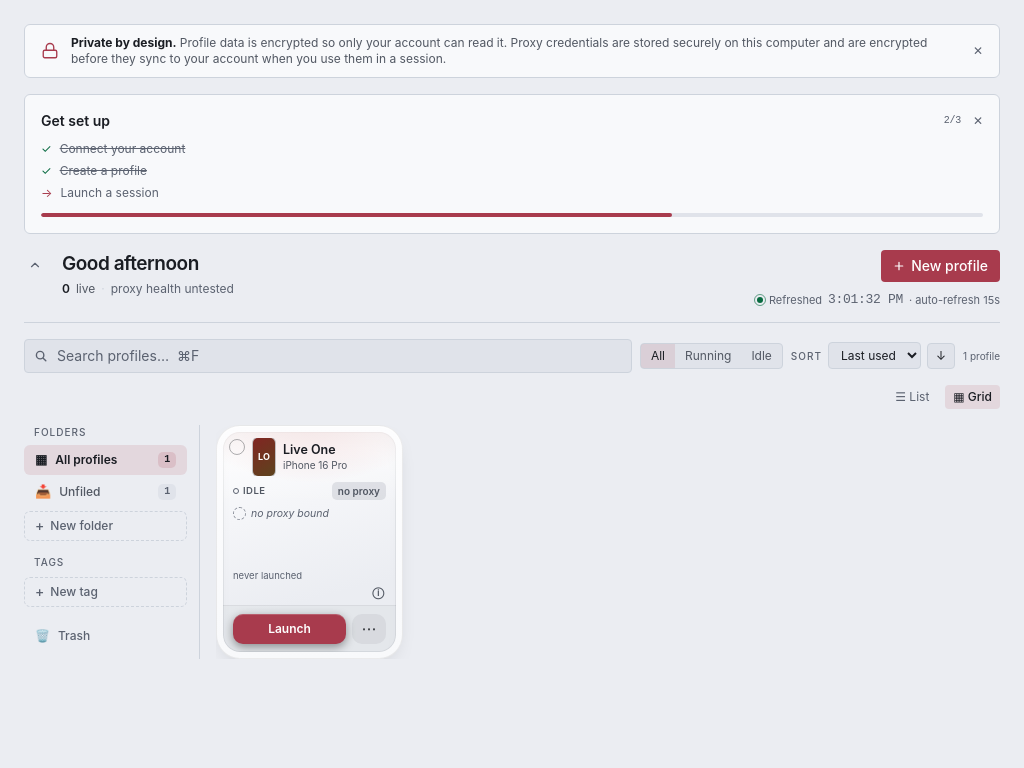
Test: TrashPanel load truth › renders a retryable failure rather than false empty on a load error
Expected: the text "Live One" is shown, left=283, top=442, right=336, bottom=456
Click the button "🗑️ Trash": (106, 636) left=24, top=620, right=187, bottom=650
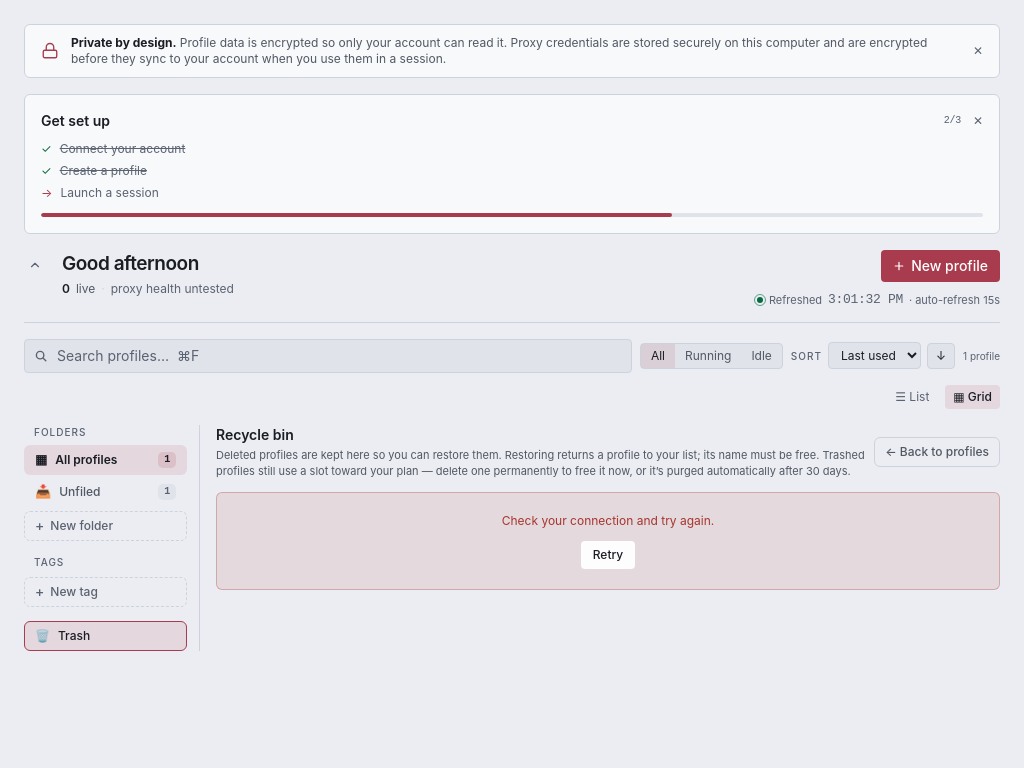
Expected: the message "Check your connection and try again. Retry" is shown, left=216, top=492, right=1000, bottom=590
Expected: the button "Retry" is shown, left=581, top=540, right=635, bottom=568
